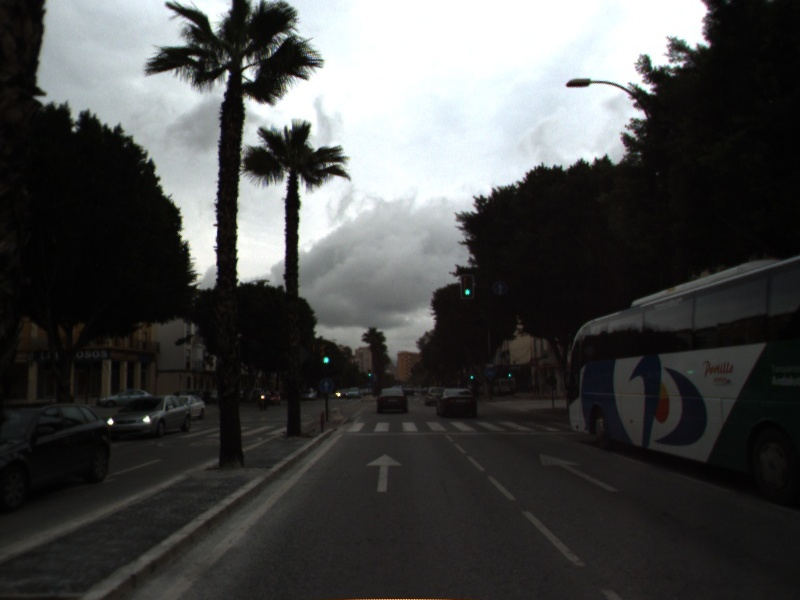STRAIGHT: (536, 451, 620, 494), (364, 451, 405, 494)
